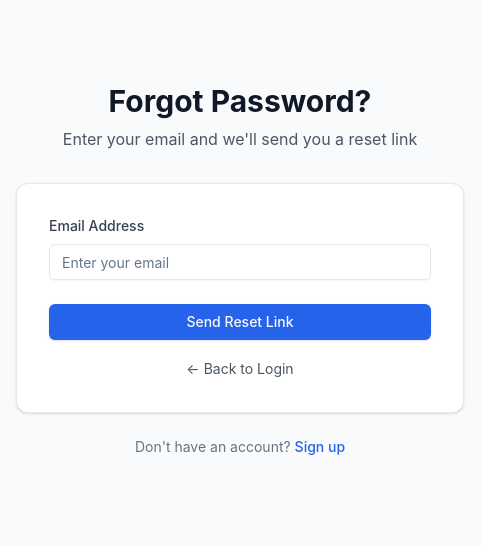
Test: ForgotPasswordPage - Form Submission › should display success message after submission
Type "test@example.com" into the field with test id "email-input". click: [240, 262]
box: [49, 244, 431, 280]
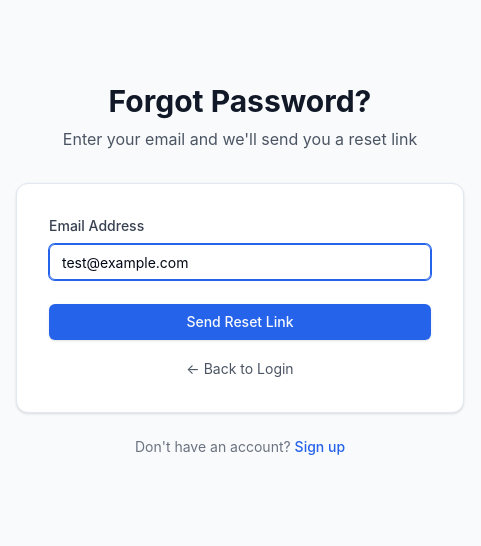
Click the button with test id "submit-button". click: [240, 322]
box: [49, 304, 431, 340]
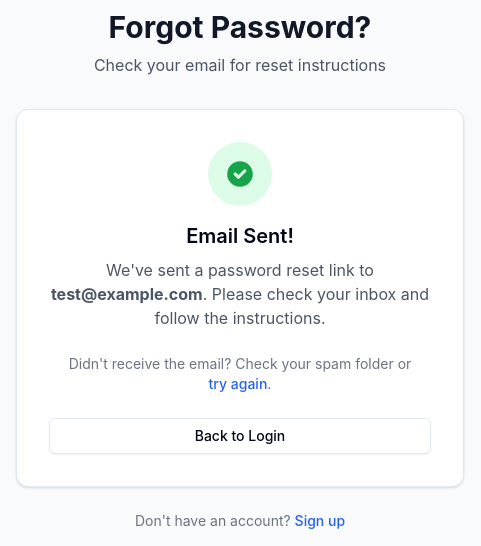
Result: the heading "Email Sent!" is shown at [186, 224, 294, 248]
